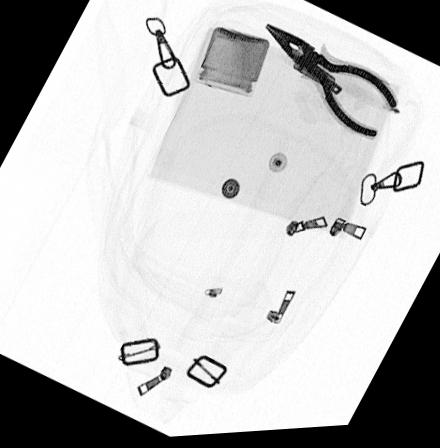Pliers: (262, 24, 400, 146)
